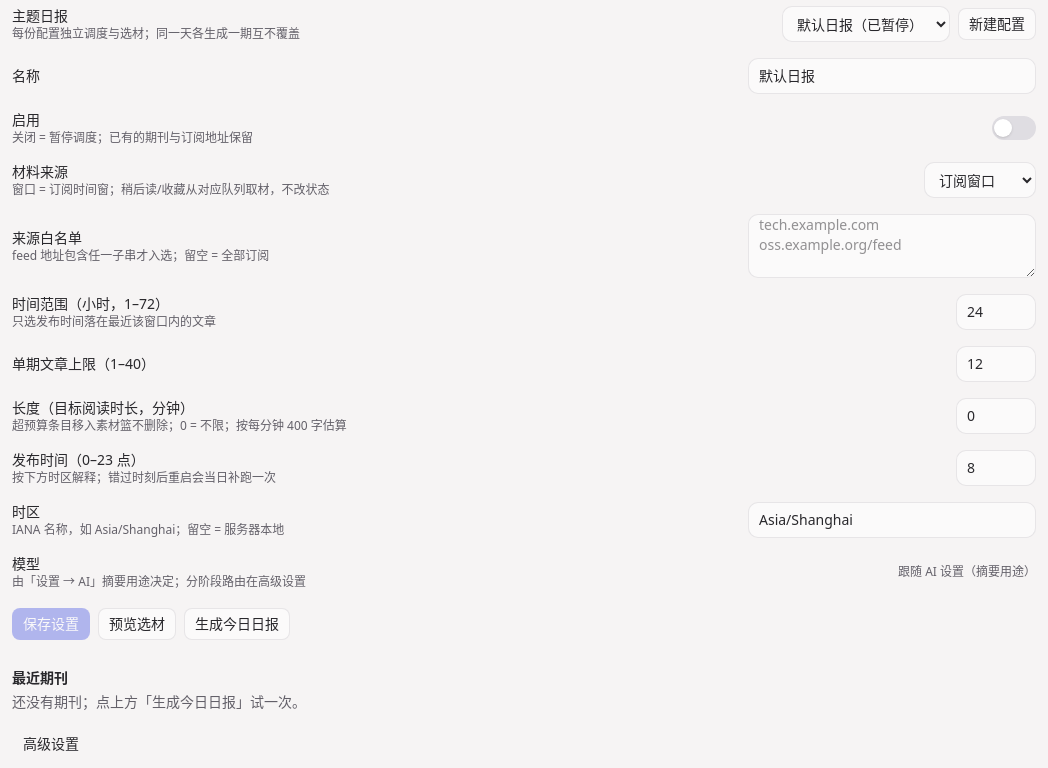
Test: GptDigestSection（F01 多配置） › 生成失败原样透出服务端消息并提供重试入口
The width and height of the screenshot is (1048, 768).
Expected: the dropdown named "选择日报配置" is shown, [782,6,950,42]
Click the button "生成今日日报".
click(237, 624)  # box [184,608,290,640]
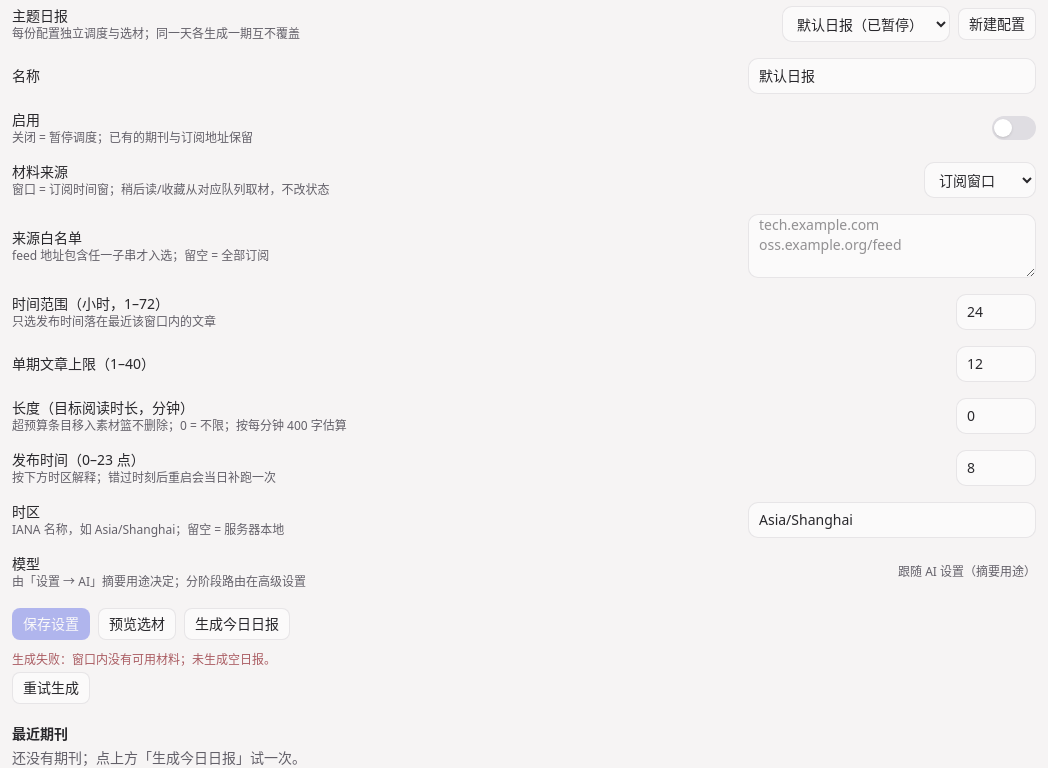
Result: the message shows "窗口内没有可用材料" at [72,651,276,668]
Result: the button "重试生成" is shown at [12,672,90,704]
